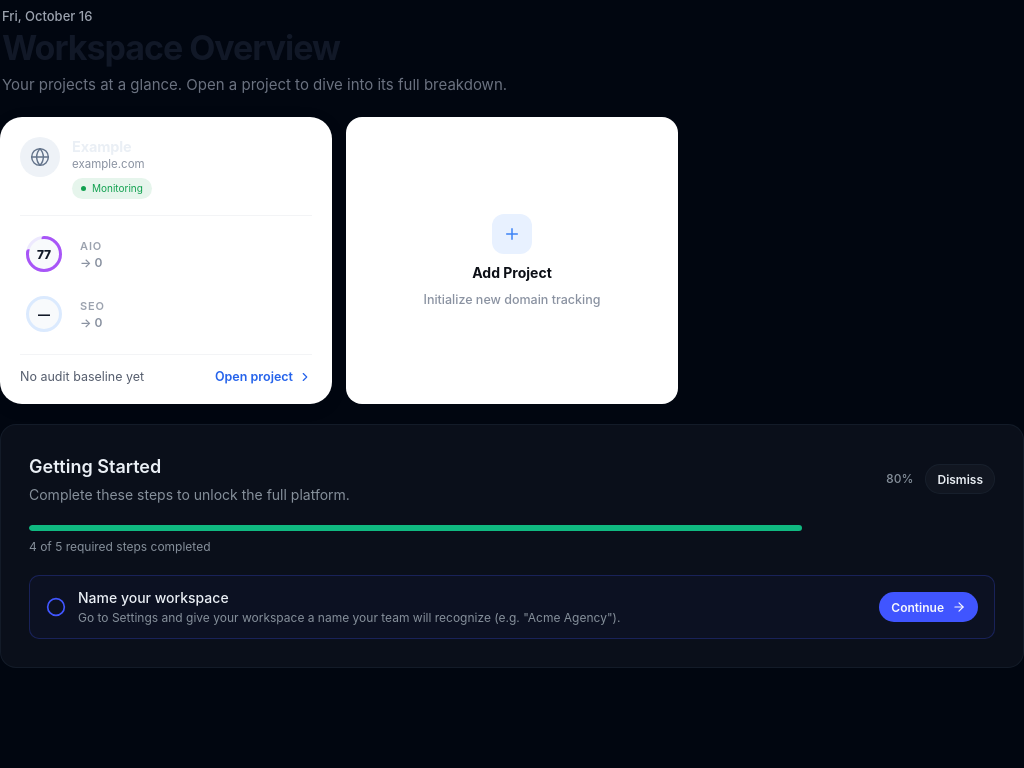
Test: DashboardOverviewPage › keeps the entered values and shows the error when project creation fails
Click the button "Add Project Initialize new domain tracking" at (512, 261), box [346,117,678,404]
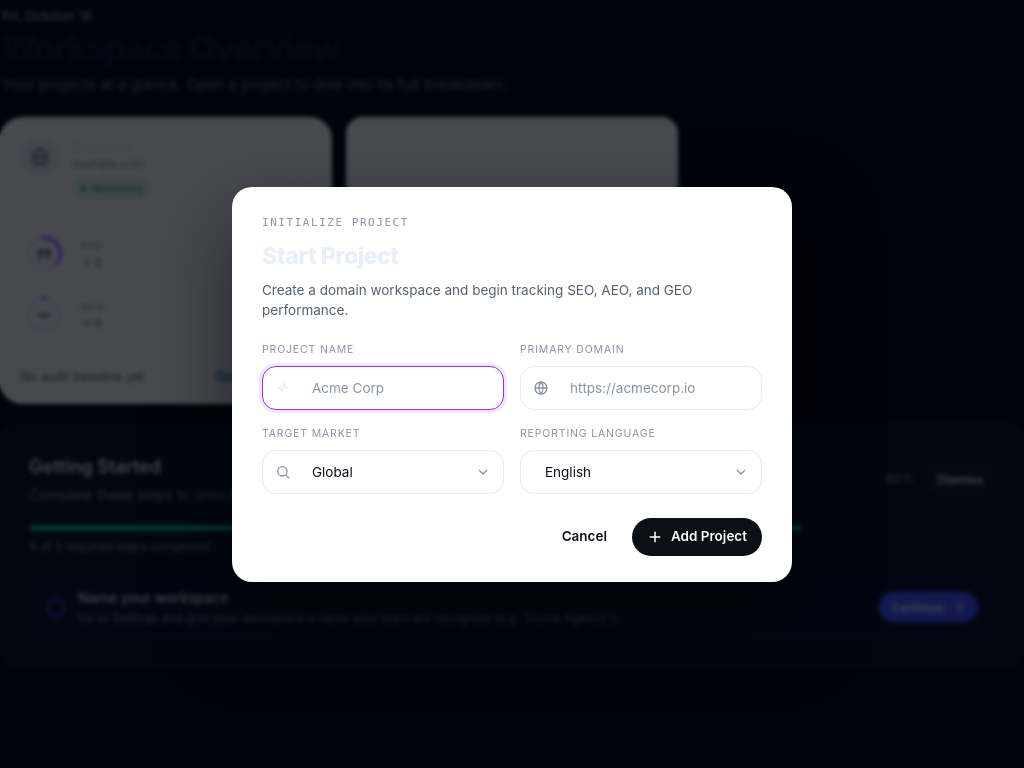
Type "Acme Site" into the field labelled "Project name" at (396, 388), box [300,376,491,400]
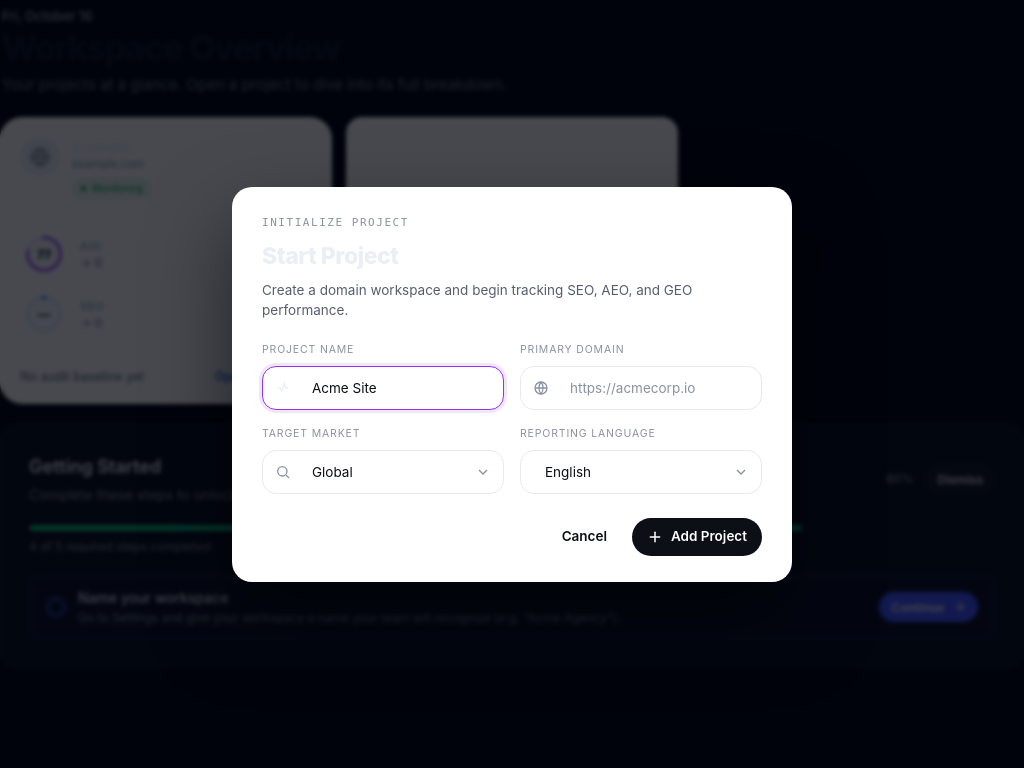
Click the button "Add Project" at (697, 536), box [632,518,762,556]
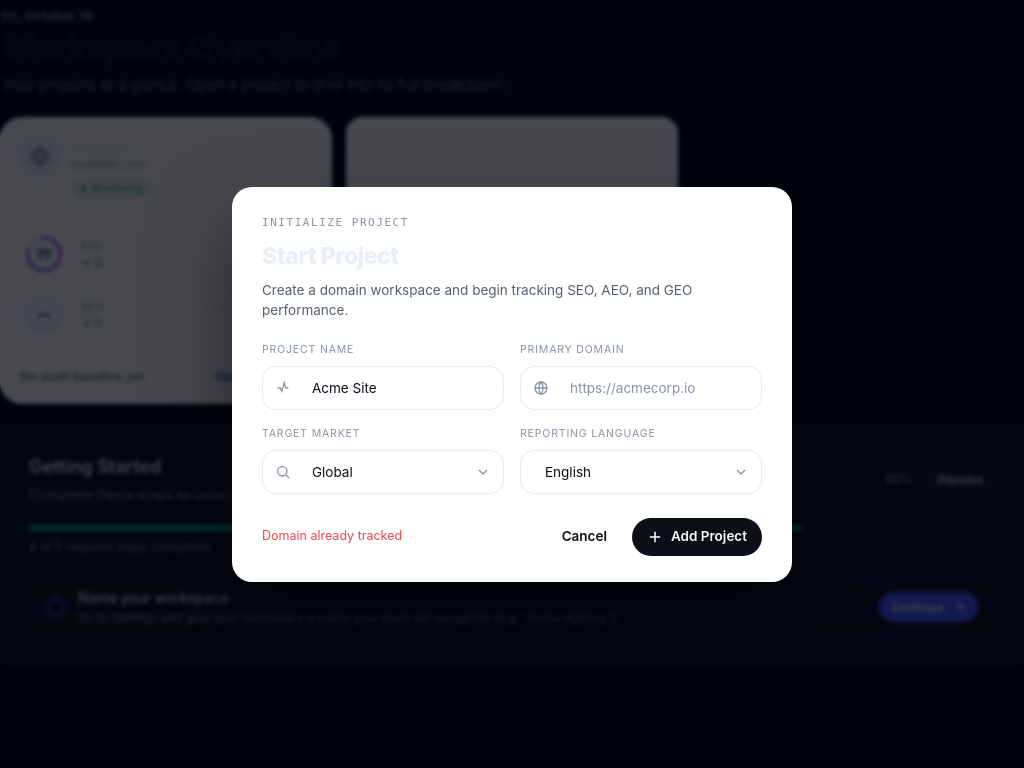
Expected: the dialog is shown, [232,186,792,582]
Expected: the text "Domain already tracked" is shown, [262,527,402,546]
